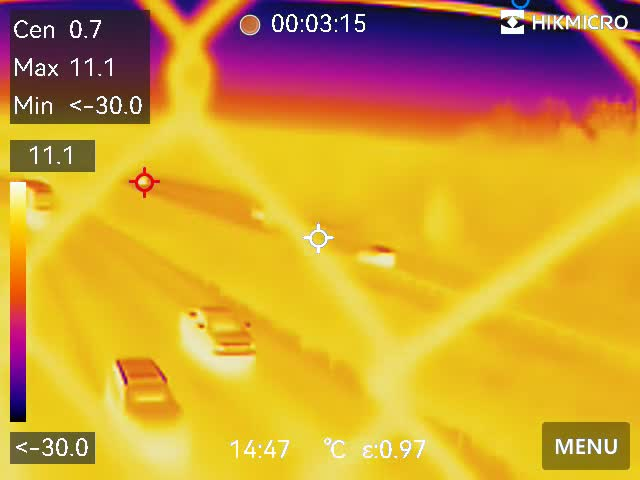heavyTruck: (21, 177, 61, 224)
largeCar: (109, 354, 183, 434)
lightTruck: (172, 296, 265, 376)
vehicle: (356, 243, 395, 261)
